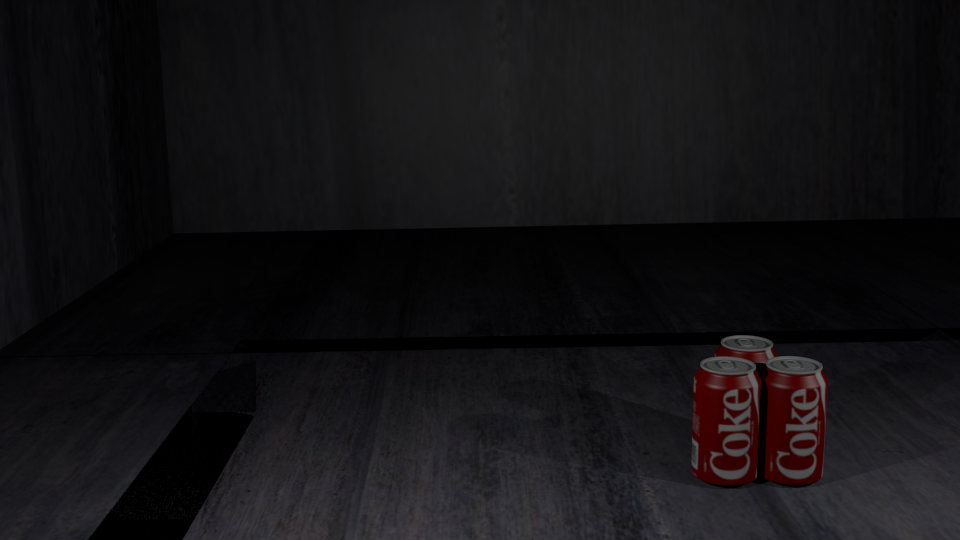cola_can: (759, 356, 827, 480), (693, 357, 760, 482), (716, 336, 777, 453)
